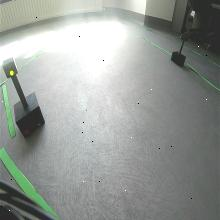green: (2, 56, 18, 79)
